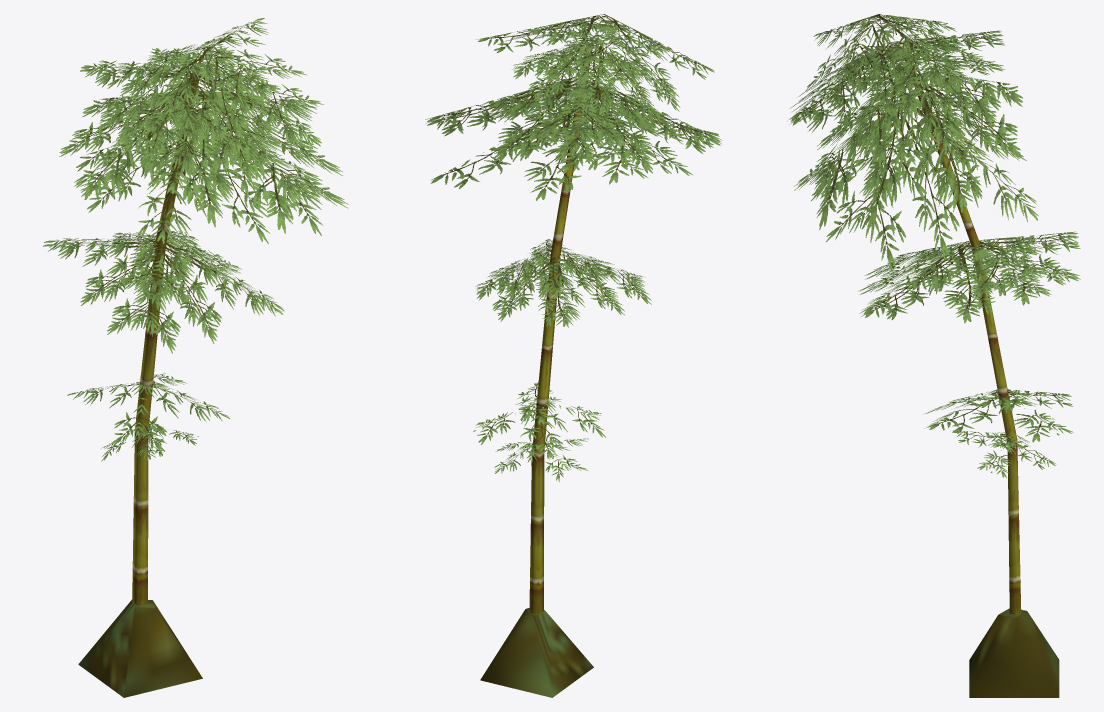
Rendered from bamboo_single_3.glb.
3 renders of one model, left to right at view 1: azimuth 30°, elevation 25°; view 2: azimuth 150°, elevation 25°; view 3: azimuth 270°, elevation 25°, orthographic. The views are drawn at different scales.
Parts seen in each view (by area): view 1: bamboo_single_3; view 2: bamboo_single_3; view 3: bamboo_single_3.
Boxes of the visible parts, left/top/right/bottom form: bamboo_single_3: left=43, top=18, right=348, bottom=697; bamboo_single_3: left=425, top=14, right=722, bottom=697; bamboo_single_3: left=789, top=14, right=1080, bottom=697.
Bounding box in the file's own units: 7.25 × 15.17 × 6.71.
Materials: 1 (1 with a texture image).
